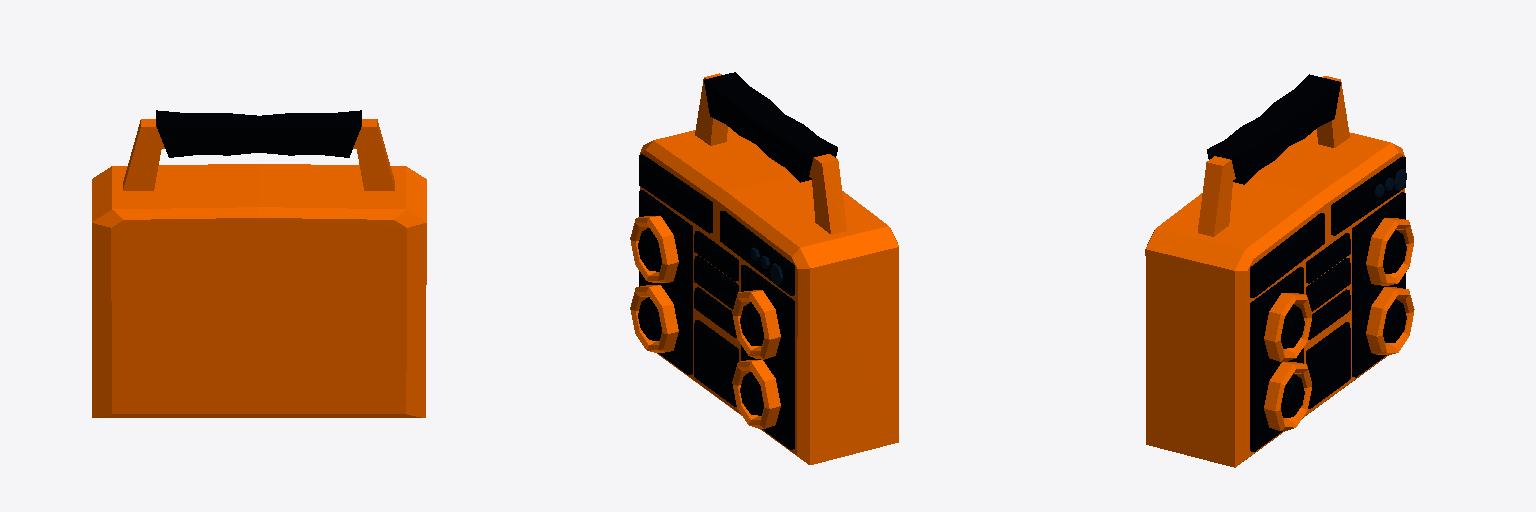
The model's file is bigboombox.obj.
3 renders of one model, left to right at view 1: azimuth 30°, elevation 25°; view 2: azimuth 150°, elevation 25°; view 3: azimuth 270°, elevation 25°, orthographic.
Visible parts, largest first — view 1: cube1, cube2; view 2: cube1, cube5, cube3, cube2, cube4; view 3: cube1, cube5, cube3, cube2, cube4.
Part boxes in pixels (left/top/right/bottom): cube1: left=92, top=119, right=426, bottom=417; cube2: left=156, top=110, right=361, bottom=157; cube1: left=640, top=73, right=898, bottom=464; cube5: left=639, top=154, right=794, bottom=449; cube3: left=630, top=216, right=780, bottom=428; cube2: left=704, top=72, right=837, bottom=182; cube4: left=638, top=228, right=763, bottom=415; cube1: left=1145, top=76, right=1404, bottom=467; cube5: left=1250, top=156, right=1405, bottom=451; cube3: left=1264, top=218, right=1414, bottom=430; cube2: left=1207, top=74, right=1340, bottom=184; cube4: left=1281, top=230, right=1406, bottom=417.
Size of the model in its own units: 14.52 by 13.14 by 11.43.